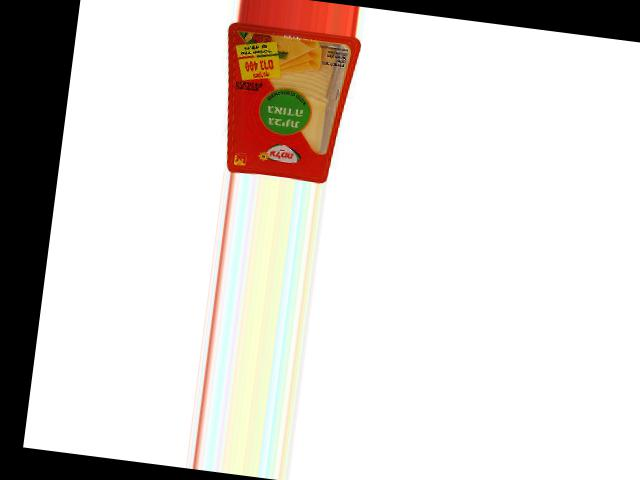cheese: (210, 20, 361, 185)
